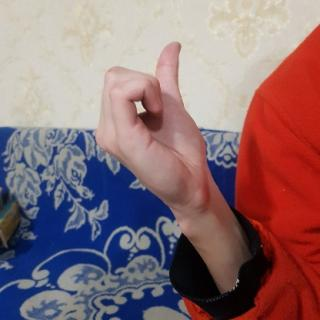WAW: (93, 36, 221, 235)
